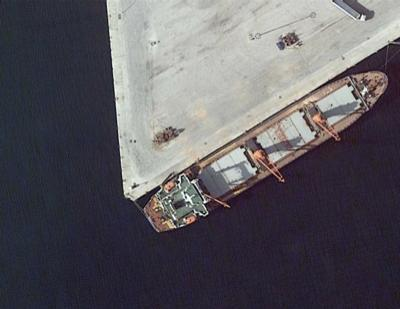Ships: (142, 66, 392, 234)
